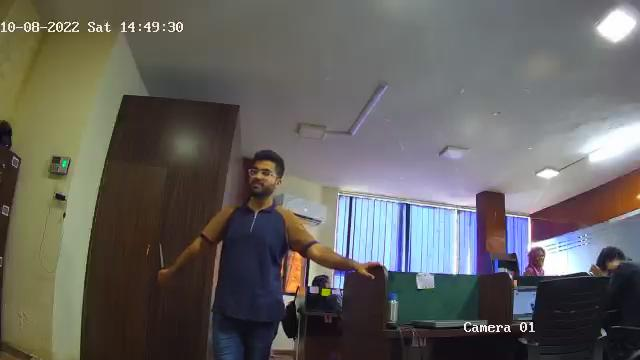knives: (153, 242, 172, 280)
